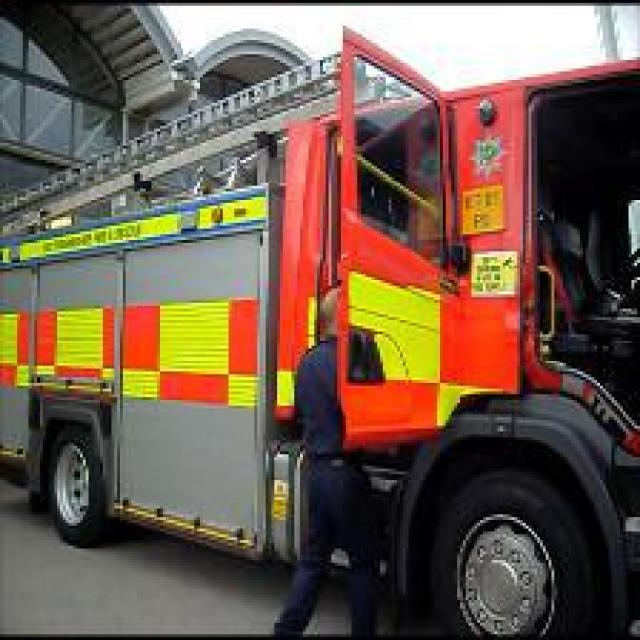other: (338, 73, 486, 413), (0, 283, 240, 406)
